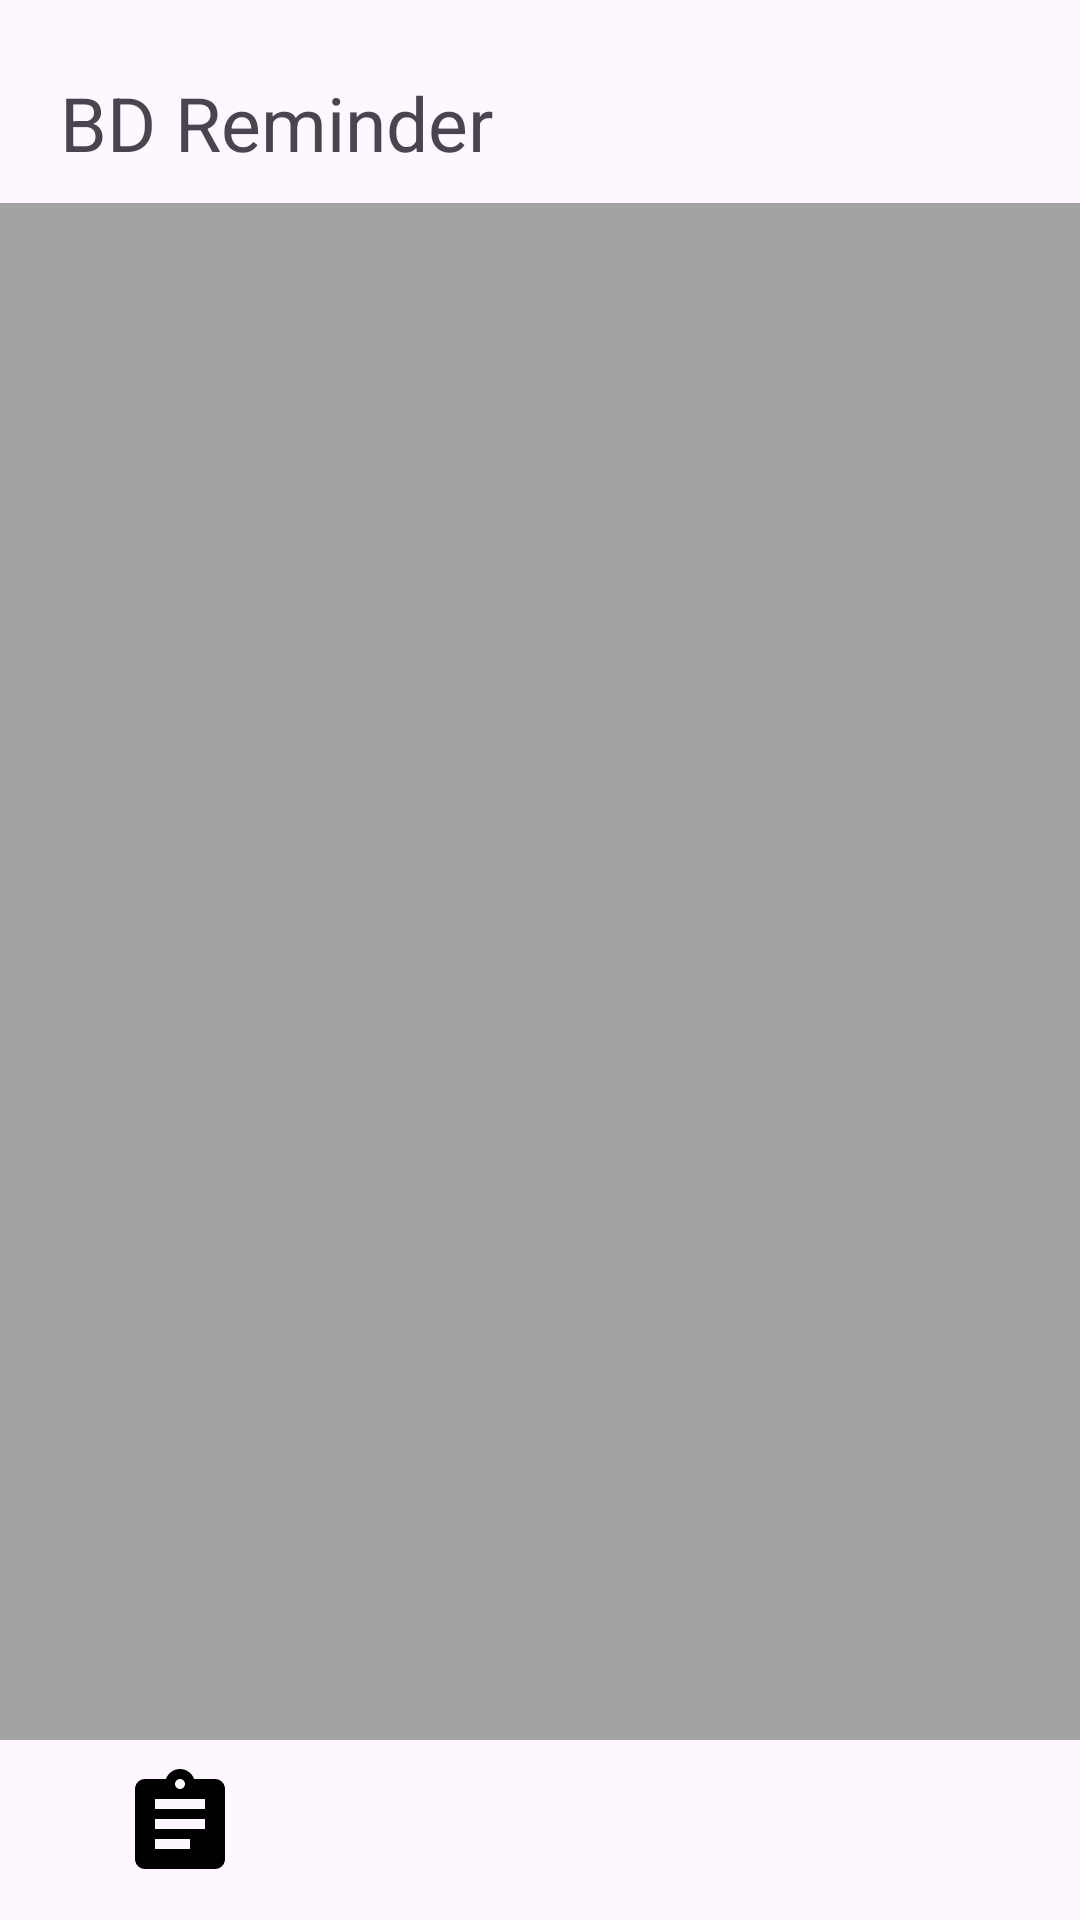

Icons on this 1080*1920 Android screen, each with its box as (x1=x1, y1=y1, x2=x2, y2=y2):
todo item: (x1=135, y1=1769, x2=225, y2=1869)
